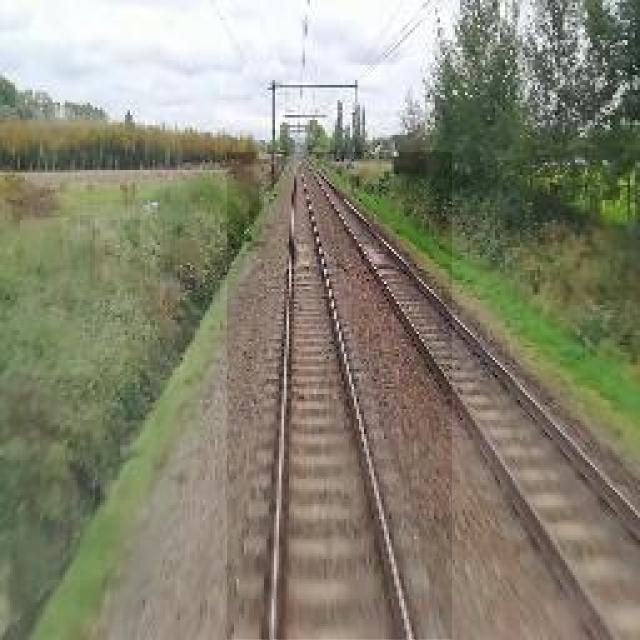rail: (229, 154, 453, 640)
